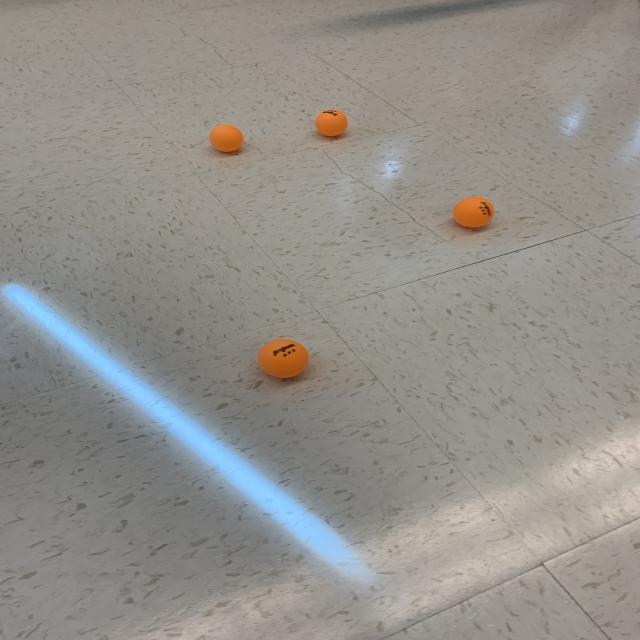ping-pong-ball: (254, 336, 312, 381), (448, 194, 499, 230), (312, 105, 350, 142), (206, 122, 246, 154)
